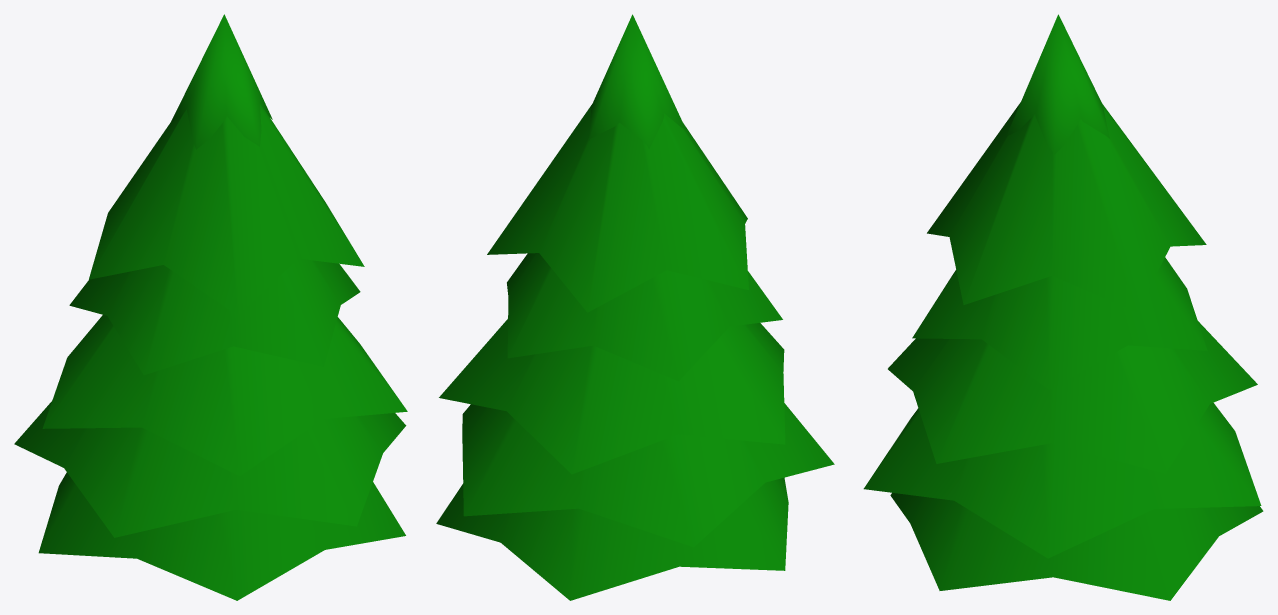
File: tree8.fbx
The picture shows the model from 3 angles, left to right: view 1: azimuth 30°, elevation 25°; view 2: azimuth 150°, elevation 25°; view 3: azimuth 270°, elevation 25°; orthographic projection. The views are drawn at different scales.
Parts seen in each view (by area): view 1: Цилиндр.004; view 2: Цилиндр.004; view 3: Цилиндр.004.
Boxes of the visible parts, <box> form: Цилиндр.004: <box>14,14,407,600</box>; Цилиндр.004: <box>436,14,834,600</box>; Цилиндр.004: <box>863,14,1263,600</box>.
Bounding box in the file's own units: 275 × 393 × 271.
